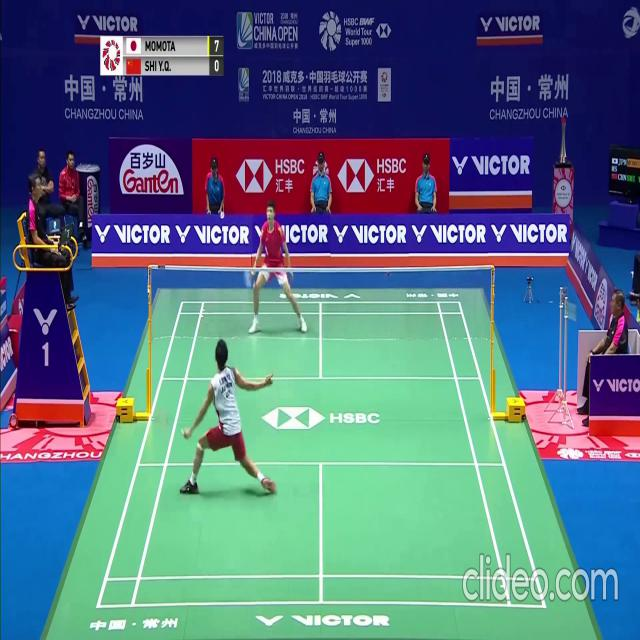Shuttlecock: (220, 210, 224, 217)
